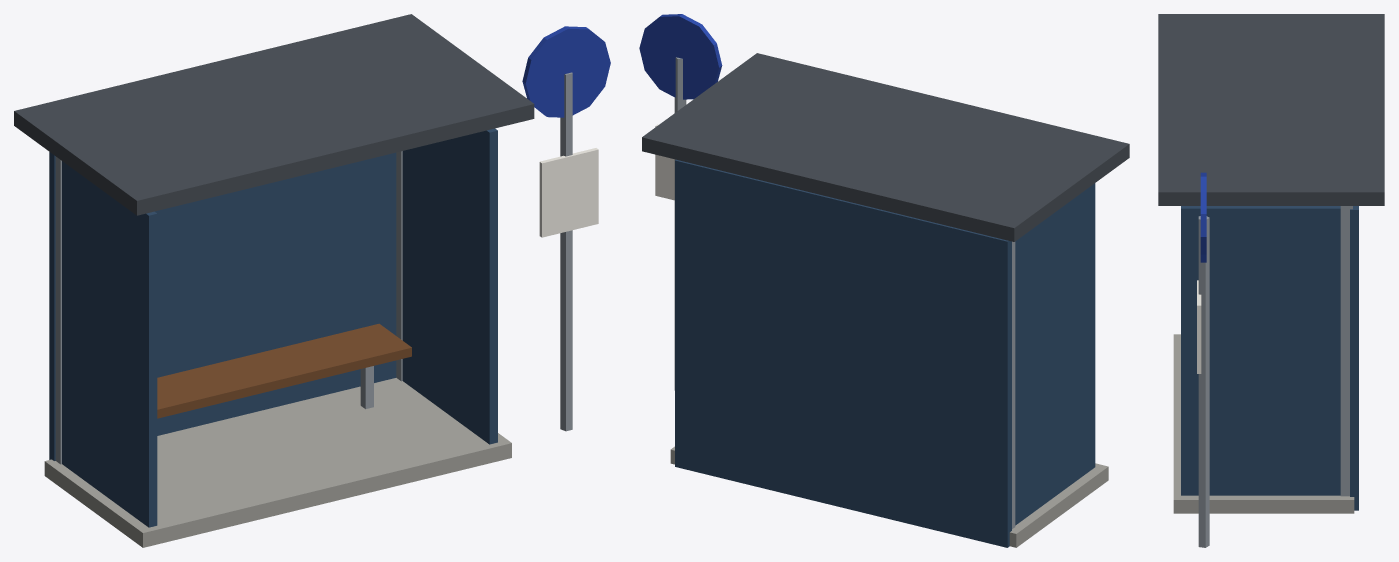
Rendered from busskur.glb.
3 views of the same model, side by side, from view 1: azimuth 30°, elevation 25°; view 2: azimuth 150°, elevation 25°; view 3: azimuth 270°, elevation 25° (orthographic). The views are drawn at different scales.
Visible parts, largest first — view 1: busskur; view 2: busskur; view 3: busskur.
Boxes of the visible parts, x1,y1,x2,y2 form: busskur: [14, 14, 610, 547]; busskur: [639, 14, 1129, 547]; busskur: [1158, 14, 1384, 547].
Bounding box in the file's own units: 3.5 × 2.7 × 1.5.
